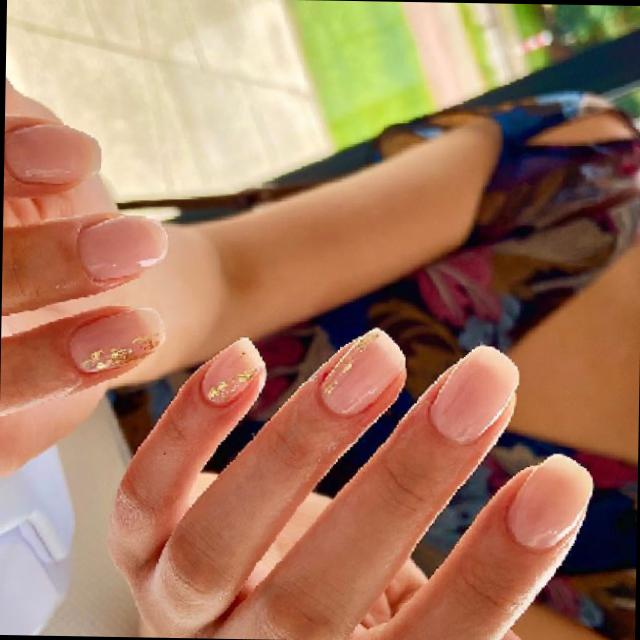Nail: (429, 348, 516, 444), (506, 454, 591, 549), (320, 330, 403, 414), (68, 308, 162, 372), (76, 215, 166, 278), (3, 124, 99, 183), (200, 339, 263, 405)
